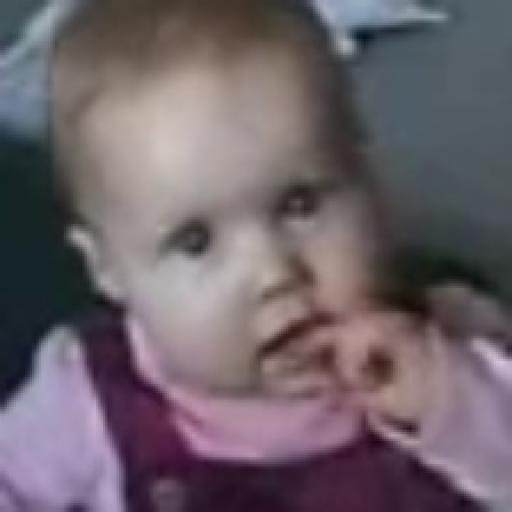Autism: (47, 9, 449, 512)
